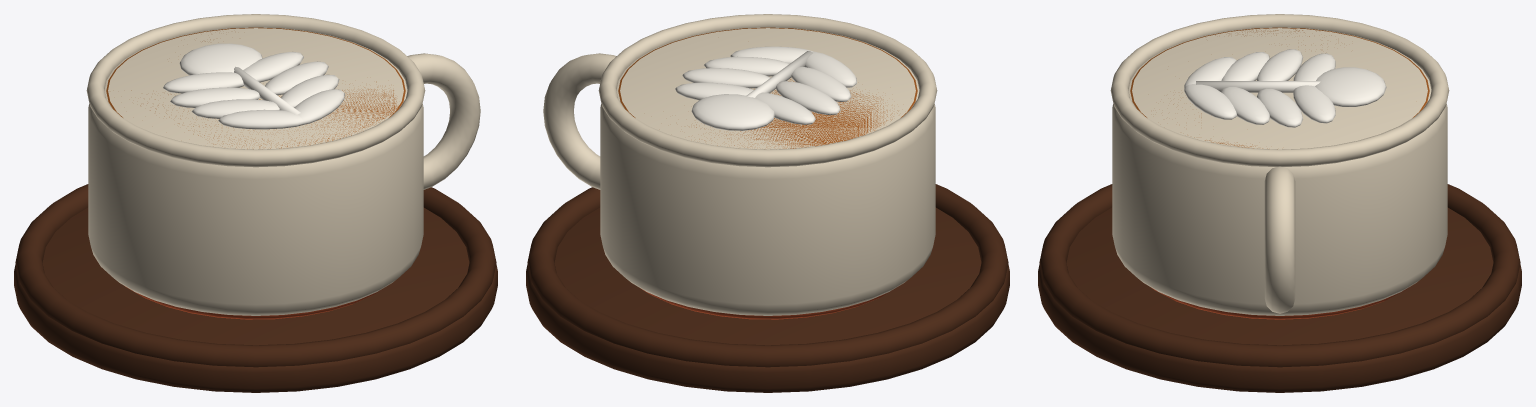
File: kobo-stoneware-cup.glb
3 views of the same model, side by side, from view 1: azimuth 30°, elevation 25°; view 2: azimuth 150°, elevation 25°; view 3: azimuth 270°, elevation 25° (orthographic).
Parts seen in each view (by area): view 1: part_02_body, part_01_base, part_05_vessel, part_03_top, part_04_accent; view 2: part_02_body, part_01_base, part_05_vessel, part_03_top, part_04_accent; view 3: part_02_body, part_01_base, part_05_vessel, part_03_top, part_04_accent.
Part boxes in pixels (bbox=[...]): part_02_body: bbox=[86, 14, 425, 319]; part_01_base: bbox=[14, 184, 497, 392]; part_05_vessel: bbox=[163, 43, 344, 129]; part_03_top: bbox=[407, 53, 480, 189]; part_04_accent: bbox=[106, 27, 405, 148]; part_02_body: bbox=[598, 14, 937, 319]; part_01_base: bbox=[526, 184, 1009, 392]; part_05_vessel: bbox=[675, 46, 856, 130]; part_03_top: bbox=[543, 53, 616, 189]; part_04_accent: bbox=[618, 27, 917, 148]; part_02_body: bbox=[1110, 14, 1449, 319]; part_01_base: bbox=[1038, 184, 1521, 392]; part_05_vessel: bbox=[1184, 49, 1386, 127]; part_03_top: bbox=[1264, 166, 1295, 313]; part_04_accent: bbox=[1130, 27, 1429, 148].
Bounding box in the file's own units: 2.02 × 0.9634 × 1.96.
